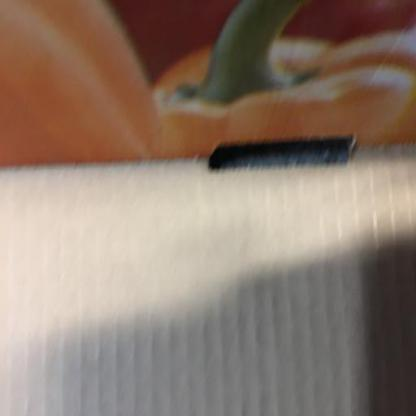CARDBOARD: (0, 144, 415, 415), (0, 0, 415, 167)
